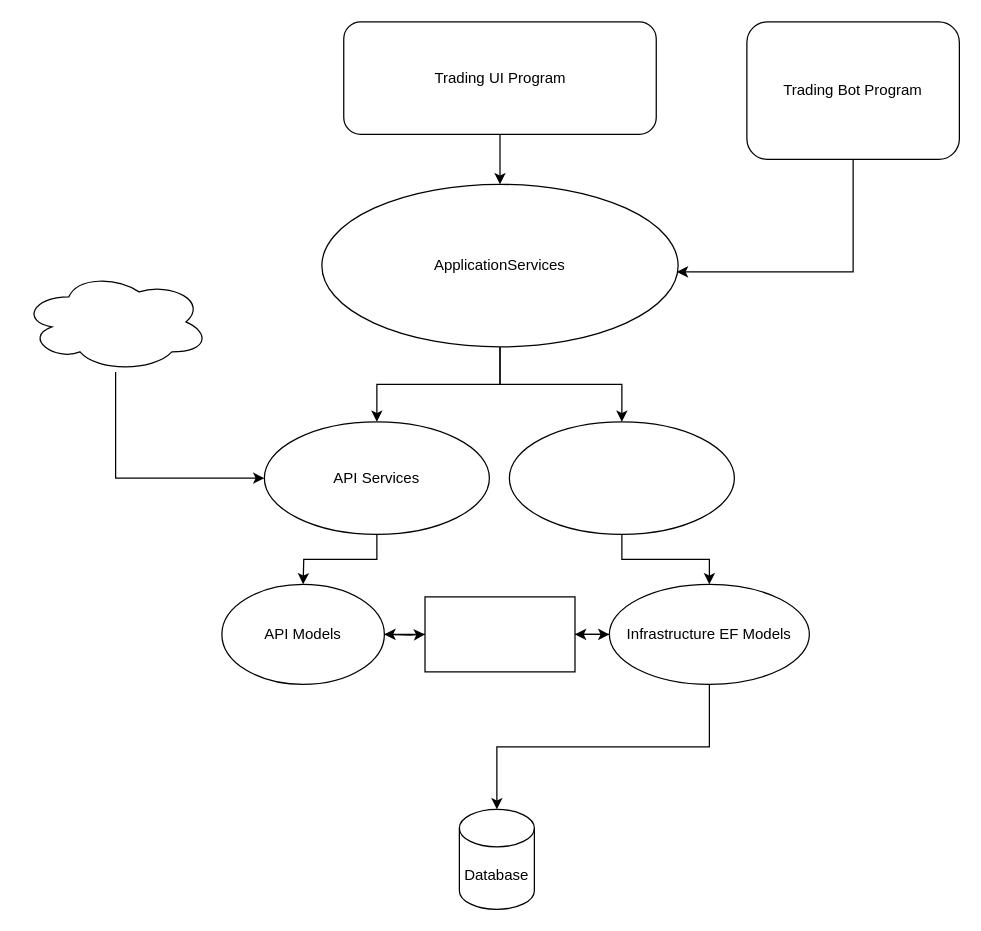
Image size: 981x931. Some labels were removed from this diagram. The shapes that lost their labels are listed below. From the top down, each one's centre as x and y in pixels, then its label:
the point at 115,321: Warframe.Market
the point at 621,477: DomainServices Services to write into the databank via models
the point at 499,634: Mapper
